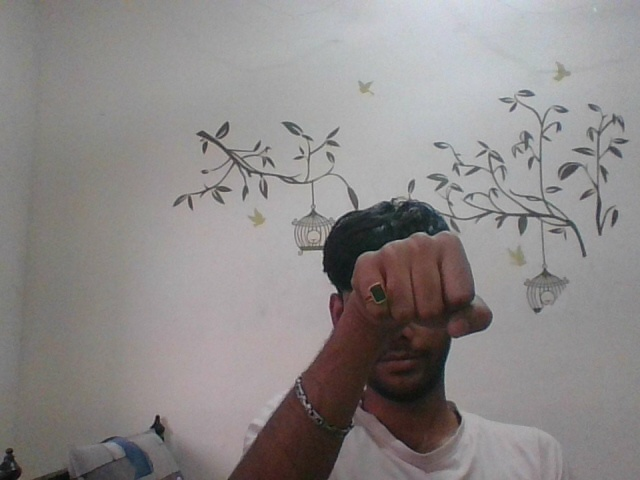Thank You: (328, 229, 501, 358)
